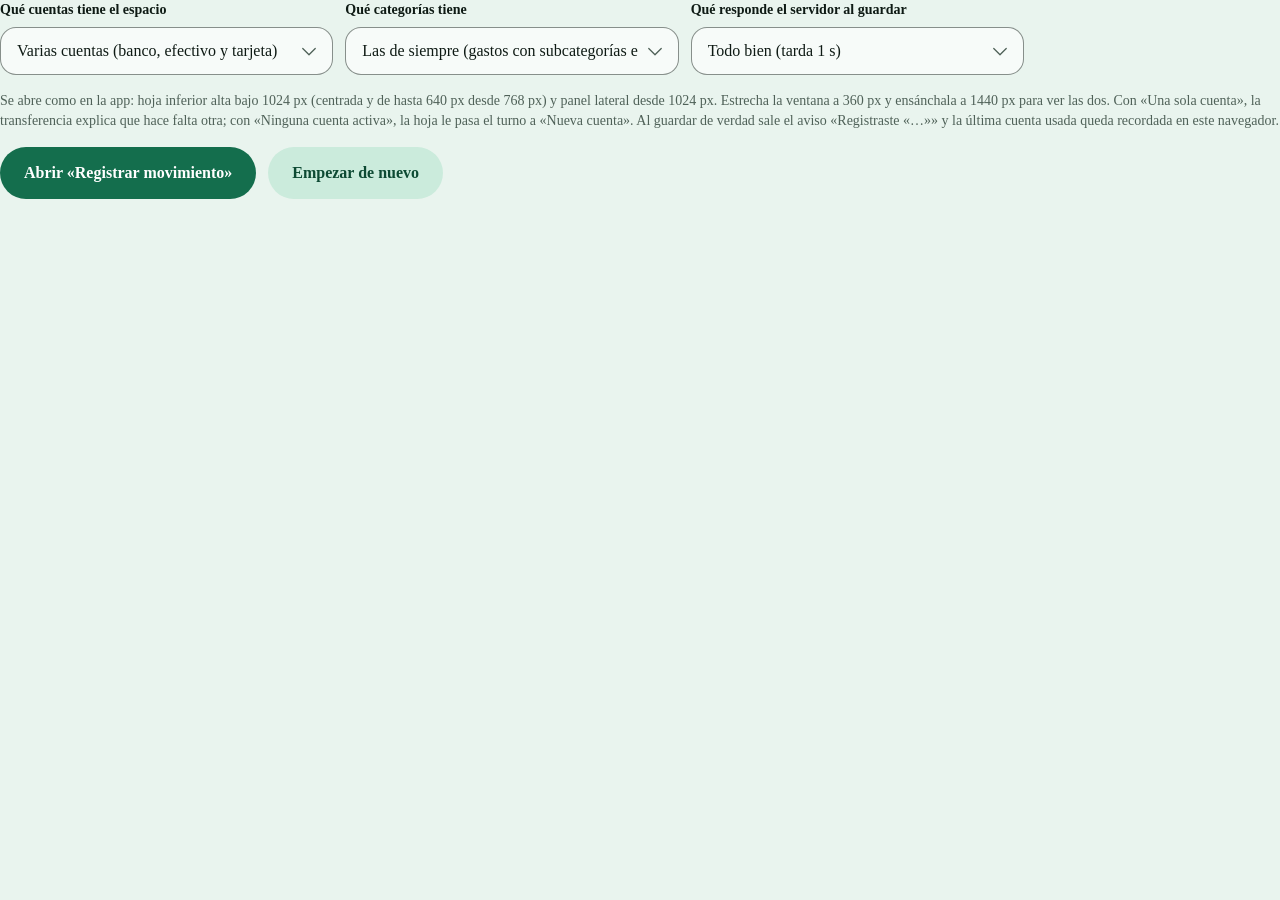
Test case: MovementSheetDemo › says there are no expense categories when the space has none
Select "Sin categorías de gasto (solo de ingreso)" in the dropdown labelled "Qué categorías tiene". click: (512, 51)
box: x1=345 y1=27 x2=679 y2=75
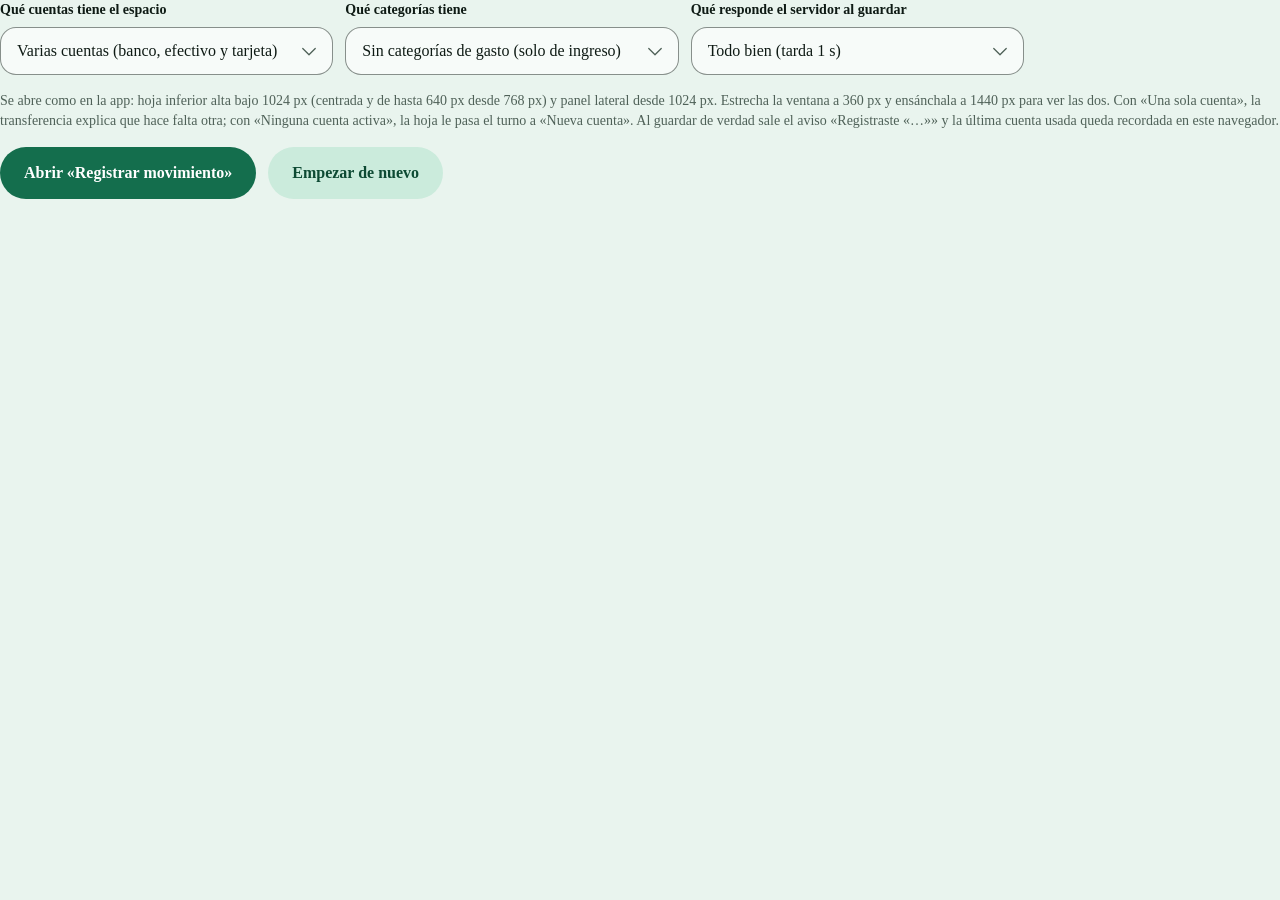
Click the button "Abrir «Registrar movimiento»". click: click(128, 173)
box: x1=0 y1=147 x2=256 y2=199
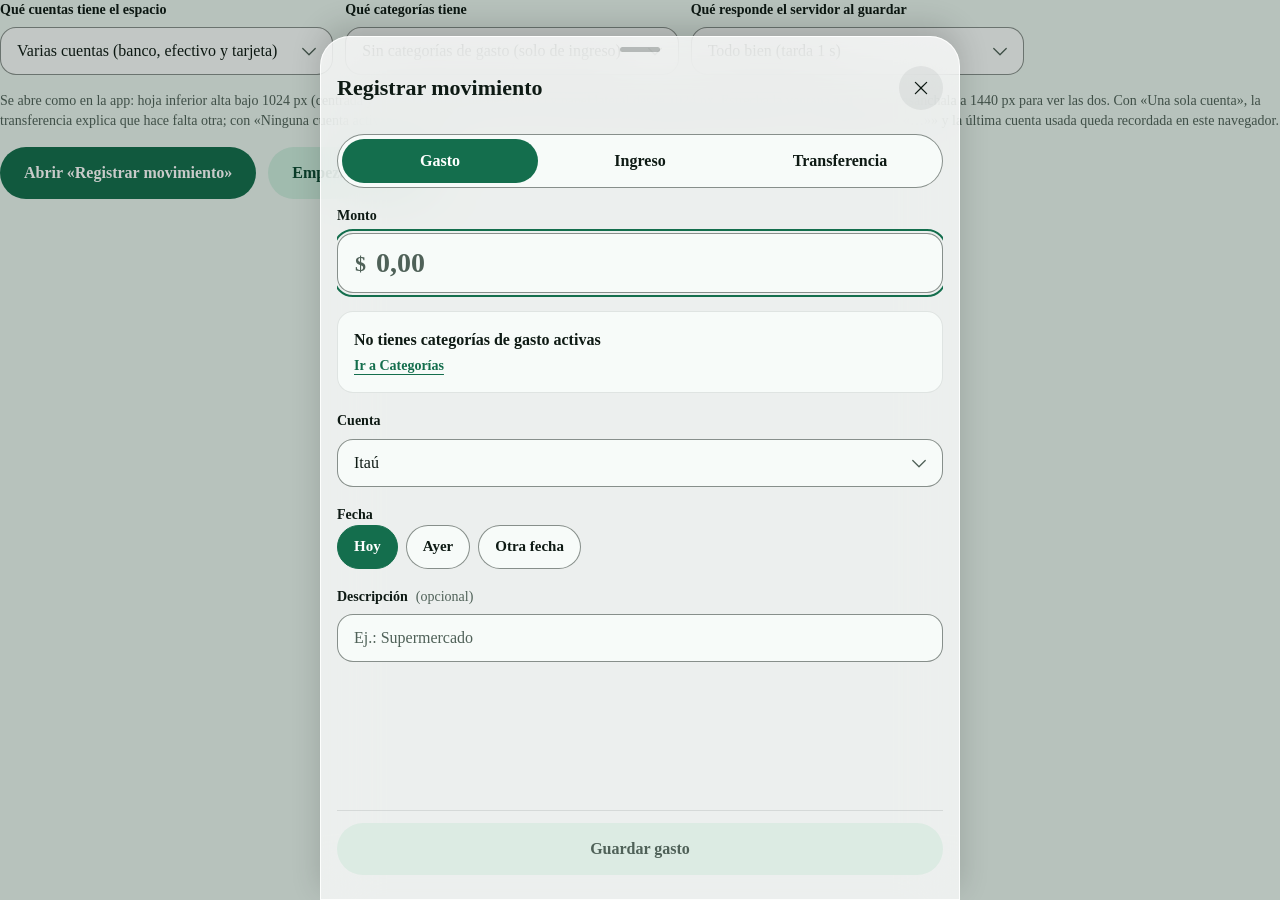
Expected: the text "No tienes categorías de gasto activas" is shown, x1=354 y1=331 x2=601 y2=348
